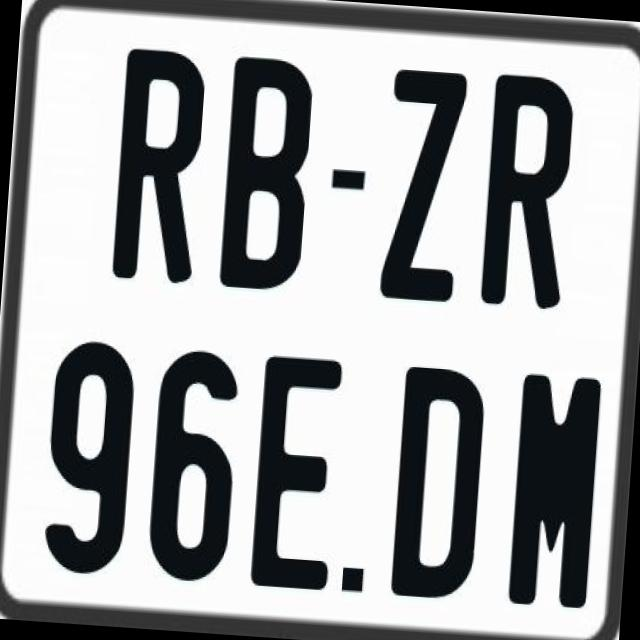6: (146, 348, 246, 584)
9: (40, 336, 140, 576)
B: (218, 51, 321, 296)
D: (390, 363, 494, 602)
E: (247, 354, 340, 588)
M: (507, 372, 601, 616)
R: (108, 44, 210, 286), (478, 71, 578, 311)
Z: (376, 66, 470, 300)
